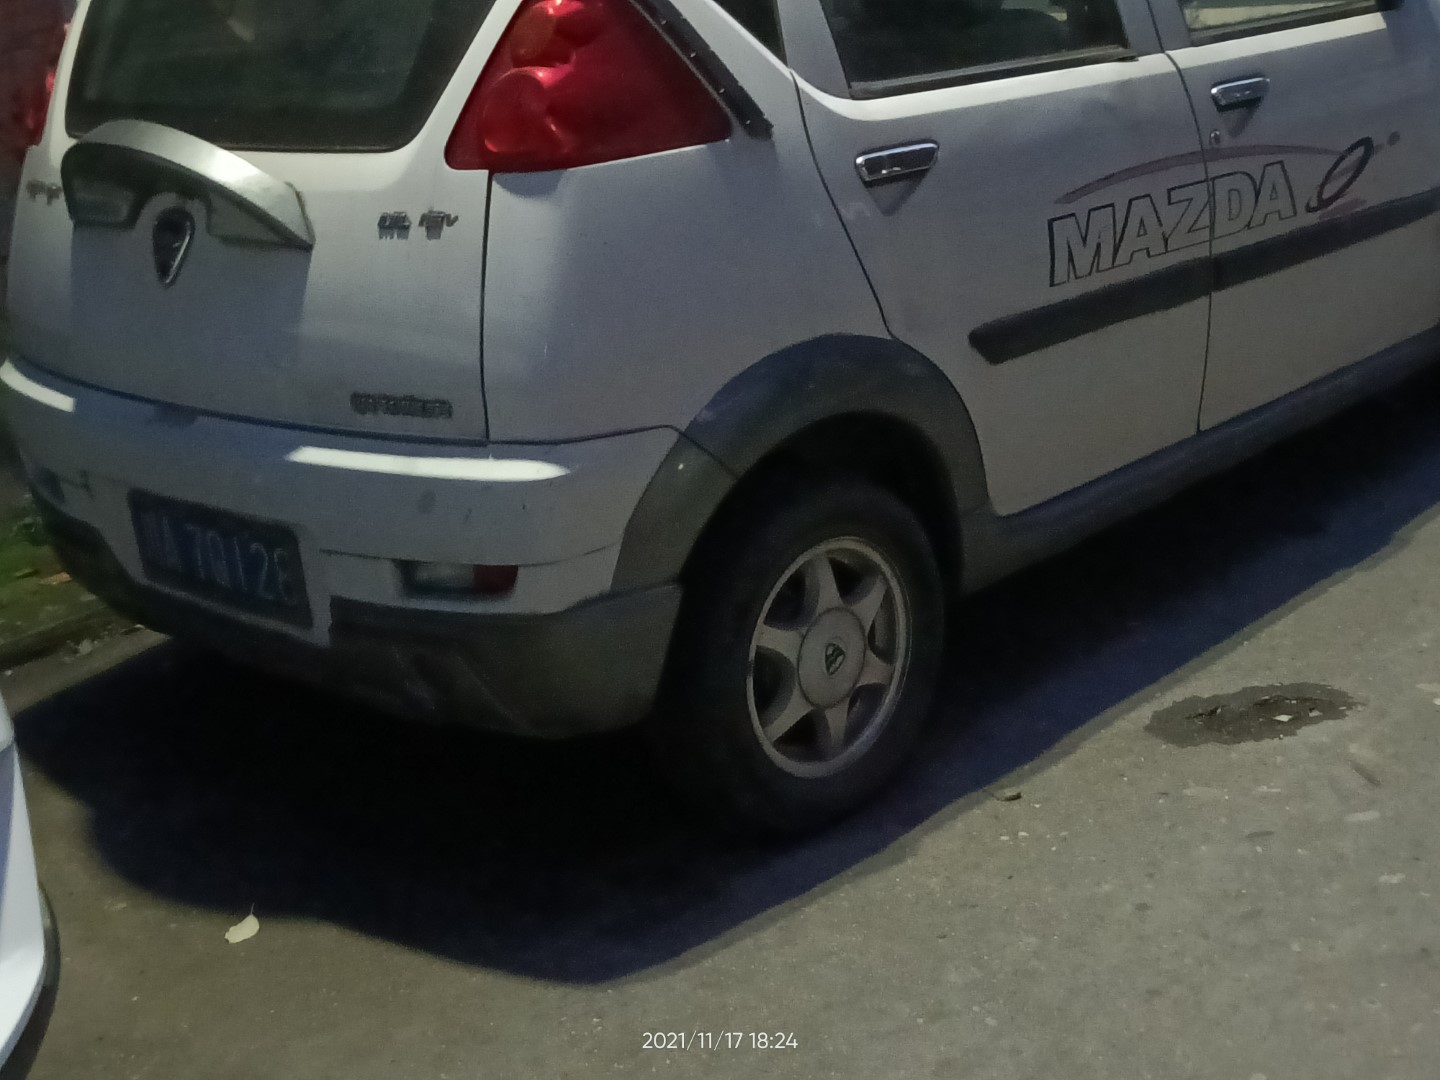plate: (130, 495, 306, 621)
